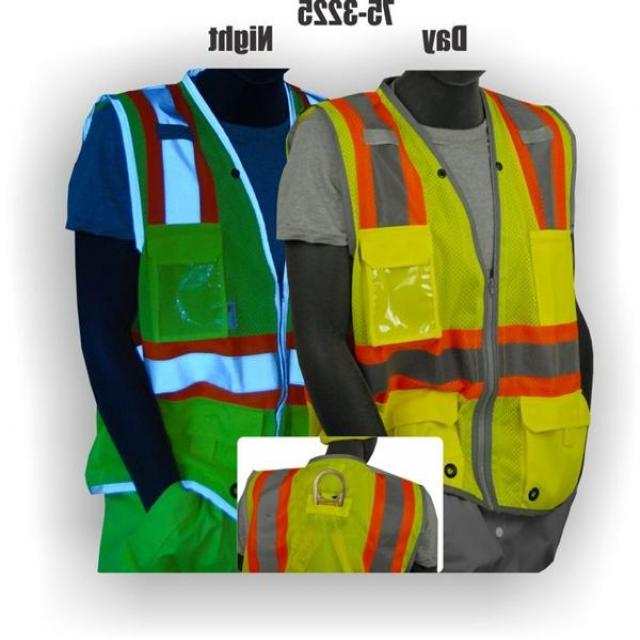Reflective-Jacket: (44, 71, 627, 581), (298, 80, 602, 517), (242, 454, 433, 575)
